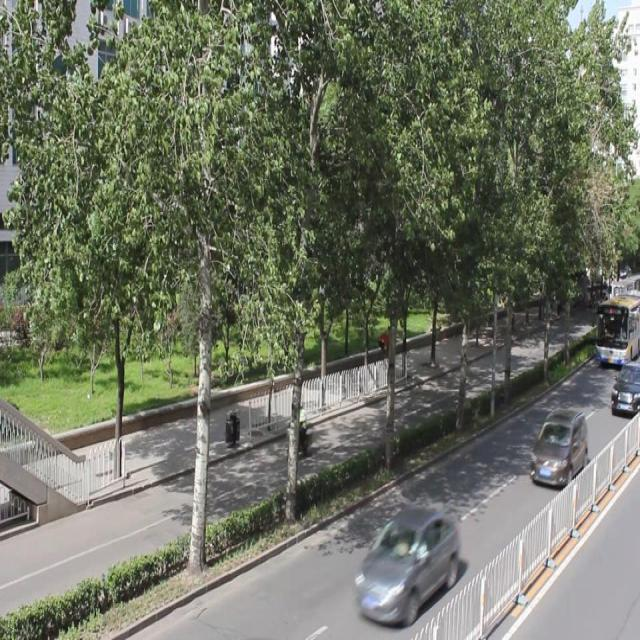car: (355, 501, 458, 620), (530, 404, 588, 486), (609, 361, 640, 415)
